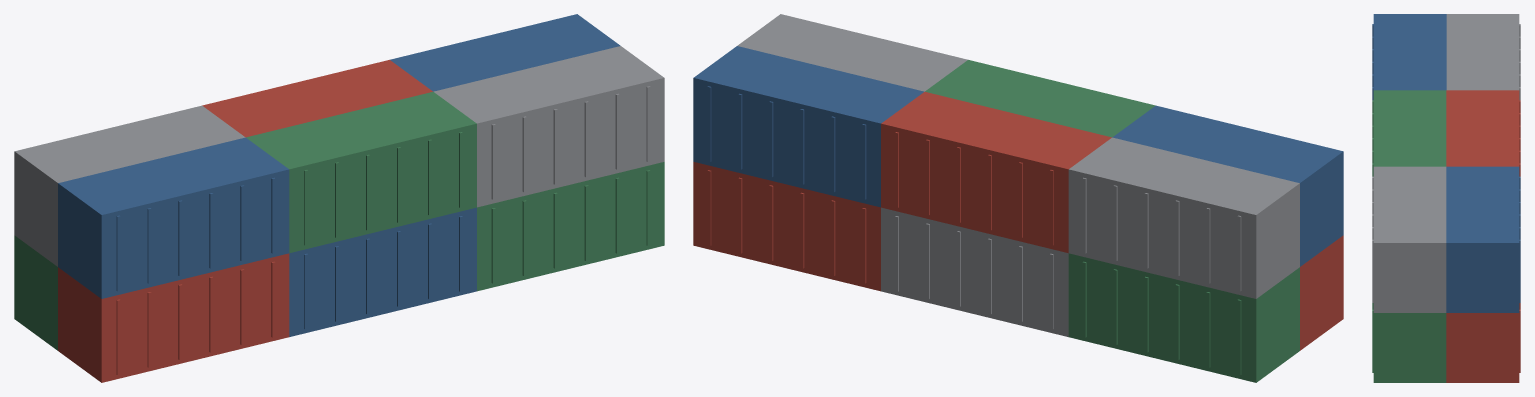
File: prop_container_stack.glb
3 renders of one model, left to right at view 1: azimuth 30°, elevation 25°; view 2: azimuth 150°, elevation 25°; view 3: azimuth 270°, elevation 25°, orthographic. The views are drawn at different scales.
Visible parts, largest first — view 1: container_stack.001; view 2: container_stack.001; view 3: container_stack.001.
Boxes of the visible parts, box(x1,y1,x2,y2) form: container_stack.001: box(14, 14, 664, 382); container_stack.001: box(693, 14, 1343, 382); container_stack.001: box(1372, 14, 1520, 382).
Size of the model in its own units: 18.18 by 5.18 by 4.98.
